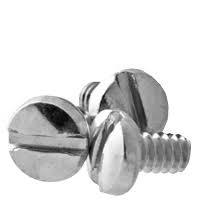slotted: (5, 96, 91, 186)
